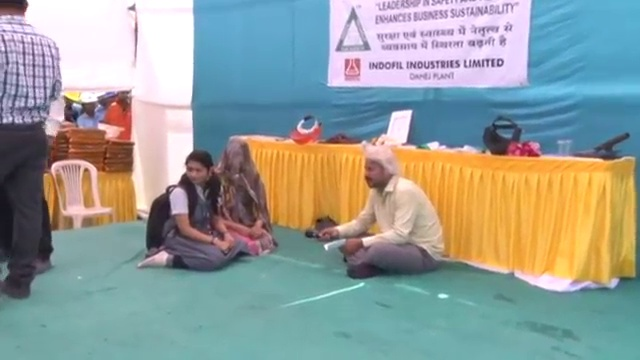helmet: (95, 122, 125, 142), (77, 94, 98, 104), (62, 90, 78, 102)
helmet_off: (354, 145, 401, 194), (219, 140, 257, 188), (179, 150, 211, 194), (116, 89, 130, 108)
helmet_on: (76, 94, 100, 119), (61, 90, 79, 110)
person: (0, 0, 61, 302), (319, 142, 446, 284), (143, 143, 235, 277), (199, 136, 276, 257), (107, 89, 133, 140), (75, 94, 102, 127), (61, 90, 79, 124)
